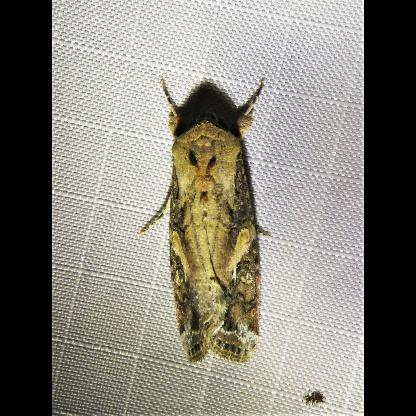Fall Armyworm Moth: (136, 74, 274, 368)
